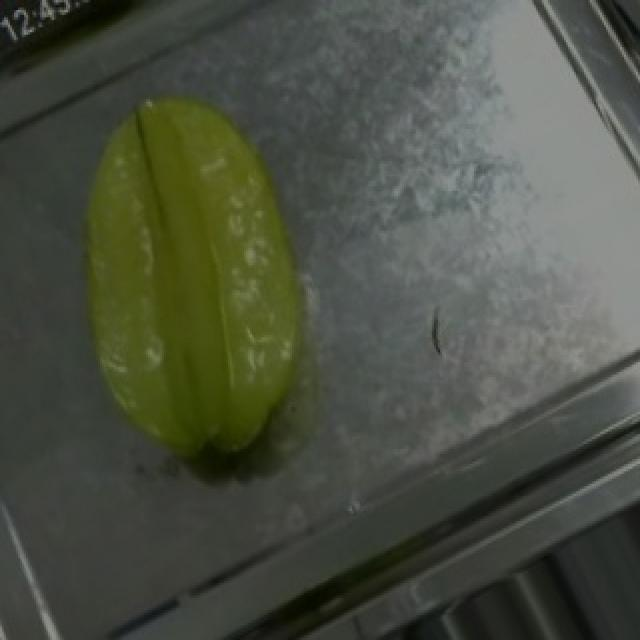fruit: (2, 44, 382, 468)
